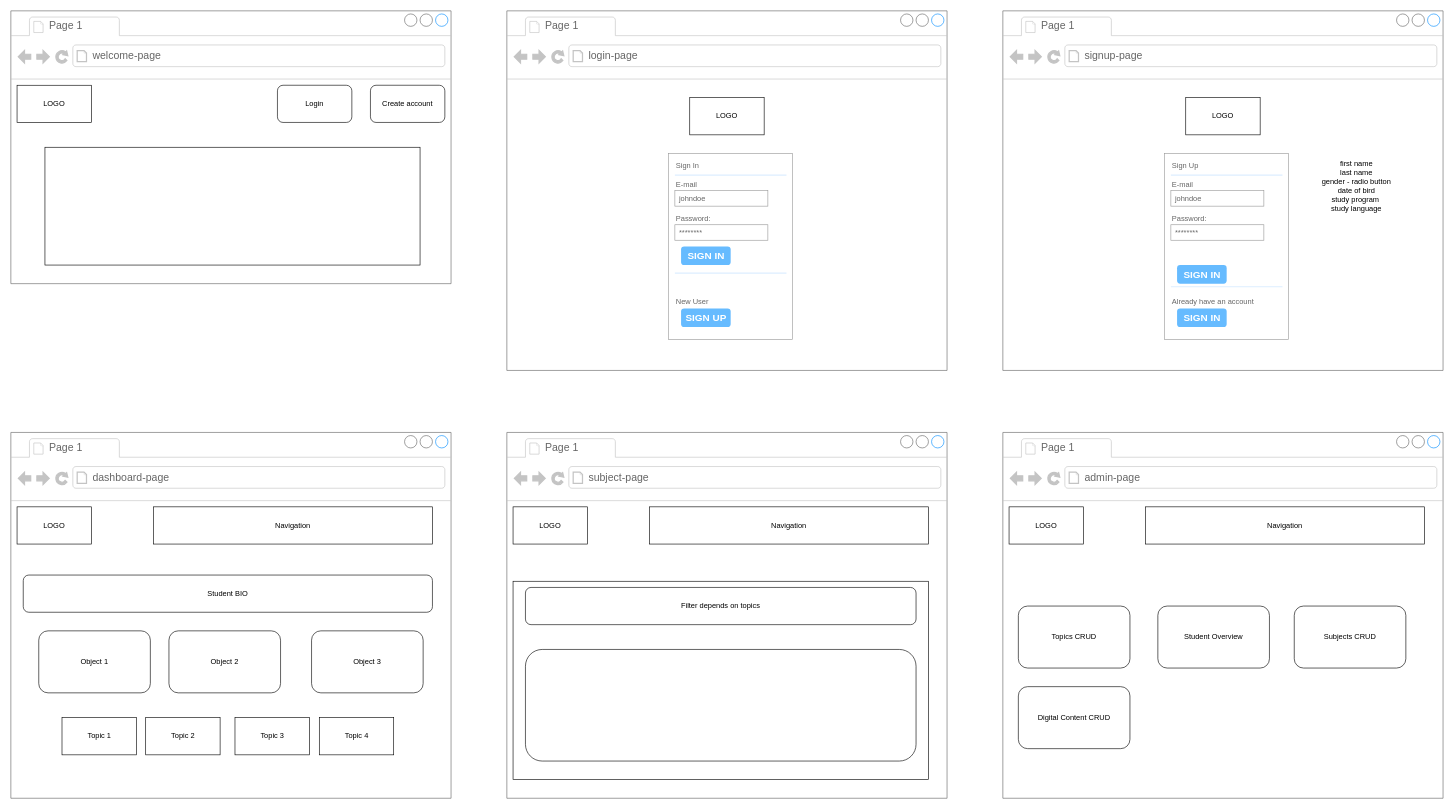
Image size: 1454x809. Some labels were removed from this diagram. The centre of each missing label's shape, as x and y in pixels:
"Content" belongs at point (720, 705).
"Lorem Ipsum" belongs at point (232, 206).
